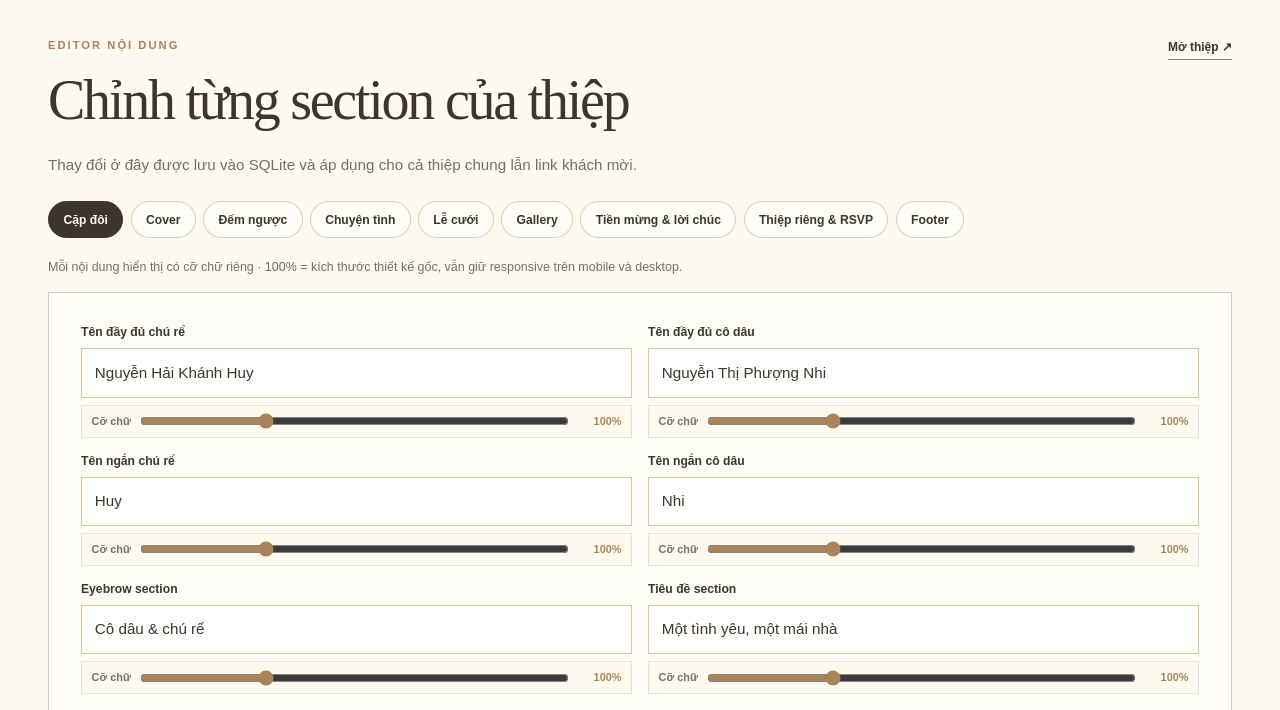
Test: AdminContentEditor font size controls › renders technical event times as local datetime pickers
The width and height of the screenshot is (1280, 710).
What coordinates should you click on to do the following:
click the tab "Lễ cưới"
I would click on:
 (456, 220)
Its box is [418, 201, 494, 238].
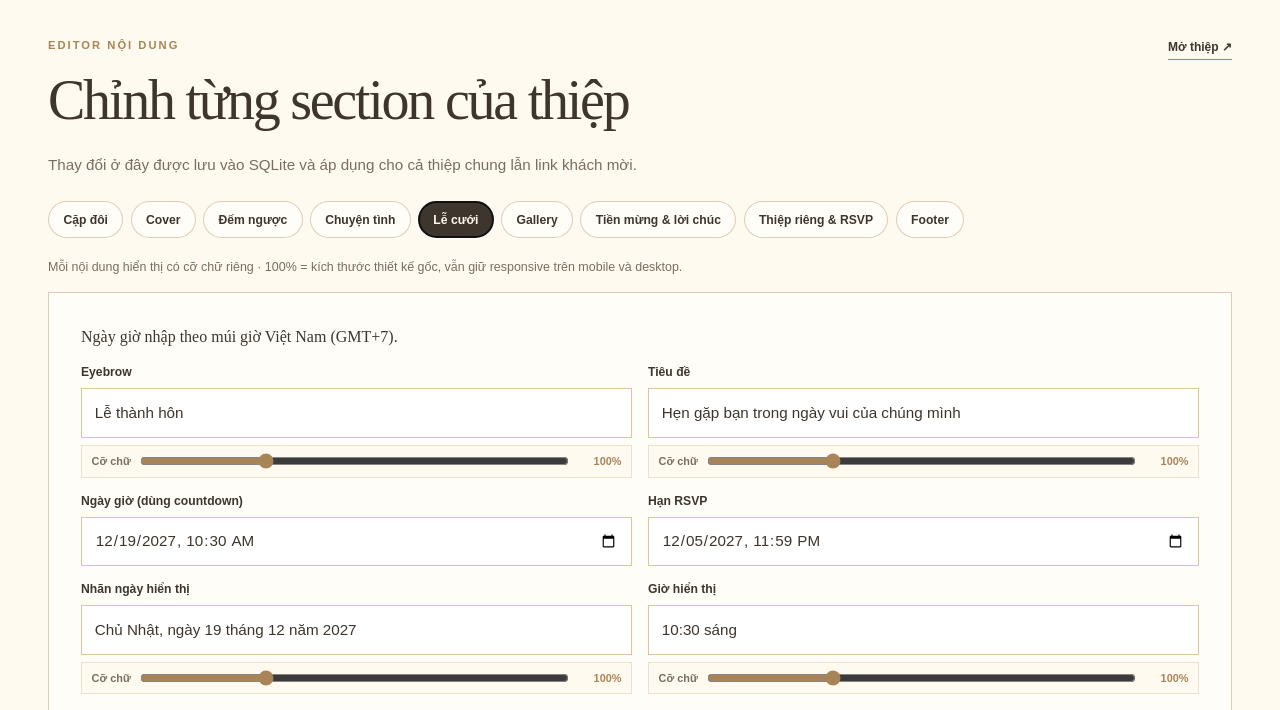
Check: the field labelled "Ngày giờ (dùng countdown)" holds "2027-12-19T10:30", box [81, 516, 632, 566]
